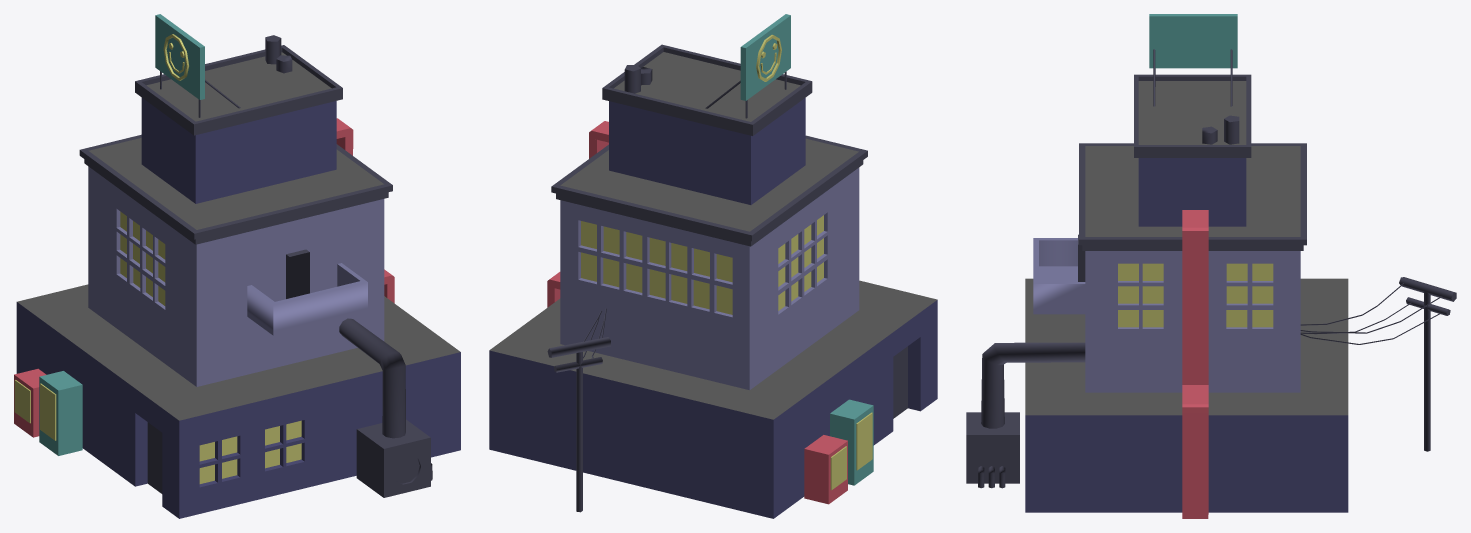
File: SM_House_1_2.fbx
3 views of the same model, side by side, from view 1: azimuth 30°, elevation 25°; view 2: azimuth 150°, elevation 25°; view 3: azimuth 270°, elevation 25° (orthographic).
Parts seen in each view (by area): view 1: SM_House_1_2; view 2: SM_House_1_2; view 3: SM_House_1_2.
Boxes of the visible parts, bbox=[...] form: SM_House_1_2: bbox=[14, 14, 460, 518]; SM_House_1_2: bbox=[489, 14, 937, 518]; SM_House_1_2: bbox=[966, 14, 1456, 518].
Size of the model in its own units: 6.91 by 8.25 by 9.11.
